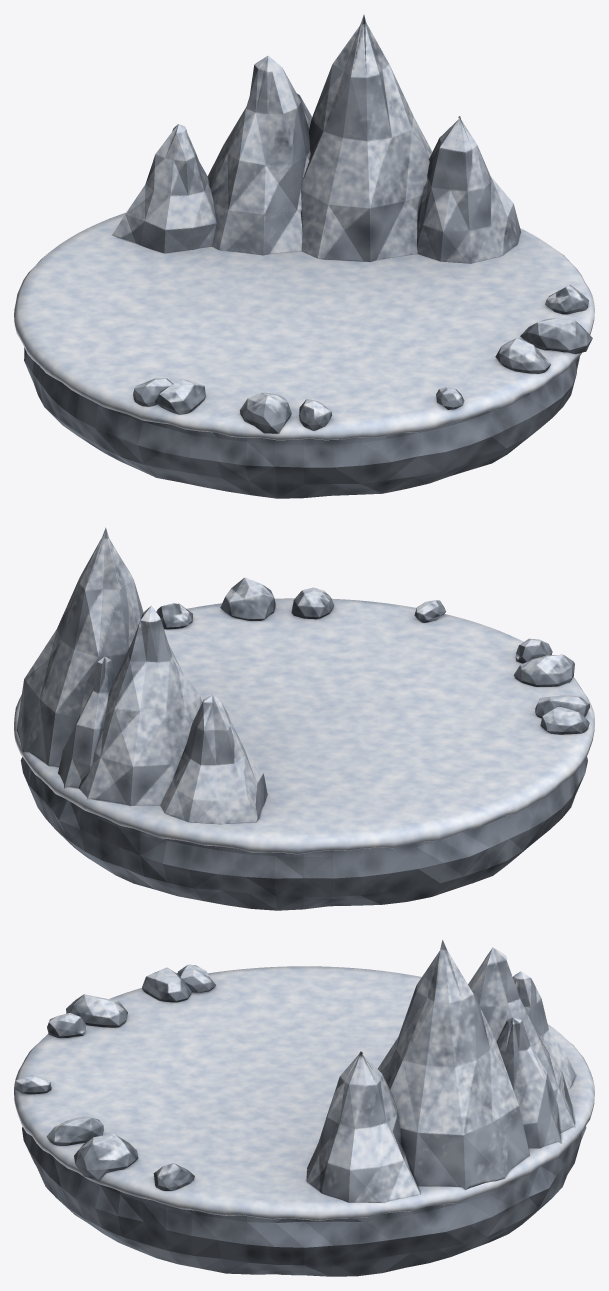
Rendered from FrostCamp_Island.fbx.
3 renders of one model, top to bottom at view 1: azimuth 30°, elevation 25°; view 2: azimuth 150°, elevation 25°; view 3: azimuth 270°, elevation 25°, orthographic.
Parts seen in each view (by area): view 1: Island_Snow, Mountains, Island_Body; view 2: Island_Snow, Mountains, Island_Body; view 3: Island_Snow, Mountains, Island_Body.
Boxes of the visible parts, x1,y1,x2,y2 form: Island_Snow: (14, 212, 594, 440); Mountains: (112, 15, 592, 433); Island_Body: (24, 347, 579, 498); Island_Snow: (14, 598, 594, 854); Mountains: (16, 527, 589, 824); Island_Body: (20, 757, 587, 910); Island_Snow: (14, 966, 594, 1220); Mountains: (14, 940, 578, 1202); Island_Body: (22, 1126, 586, 1276).
Size of the model in its own units: 20.63 by 12.64 by 20.66.
Materials: 1 (1 with a texture image).
